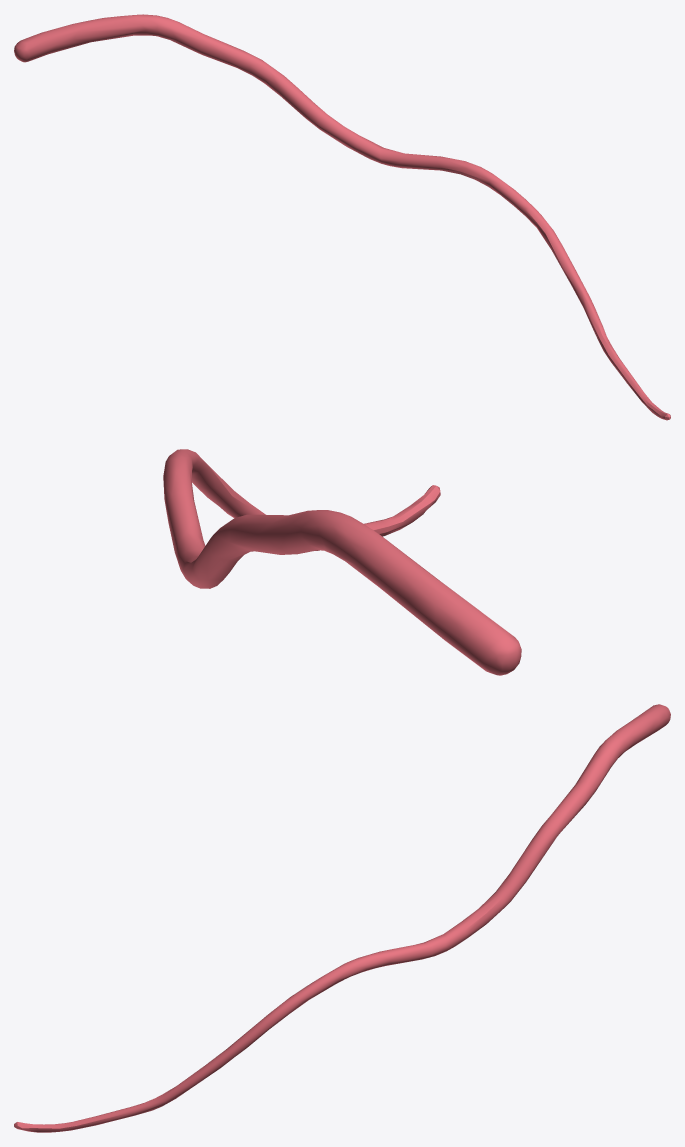
Rendered from fma4708_fj2703.glb.
3 views of the same model, one above another, from view 1: azimuth 30°, elevation 25°; view 2: azimuth 150°, elevation 25°; view 3: azimuth 270°, elevation 25° (orthographic). The views are drawn at different scales.
Parts seen in each view (by area): view 1: FMA4708_FJ2703; view 2: FMA4708_FJ2703; view 3: FMA4708_FJ2703.
Part boxes in pixels (x1,y1,x2,y2): FMA4708_FJ2703: [14, 14, 670, 420]; FMA4708_FJ2703: [163, 449, 521, 675]; FMA4708_FJ2703: [14, 704, 670, 1132].
Bounding box in the file's own units: 0.0372 × 0.0257 × 0.0563.
